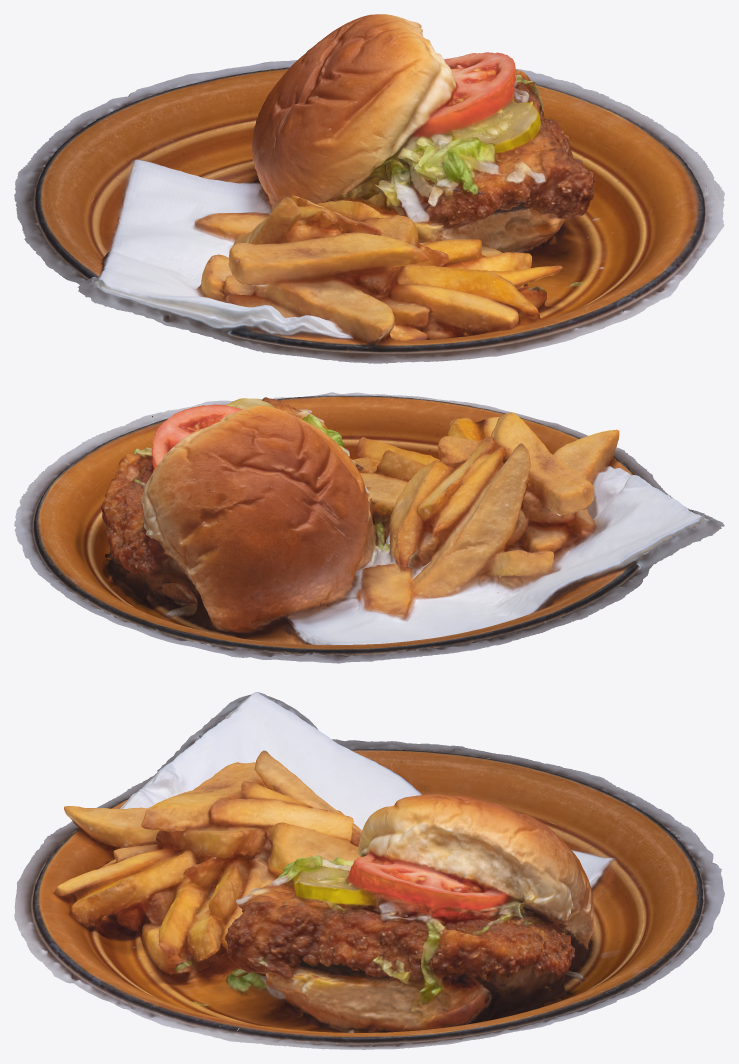
Rendered from chicken_sandwich.glb.
3 views of the same model, one above another, from view 1: azimuth 30°, elevation 25°; view 2: azimuth 150°, elevation 25°; view 3: azimuth 270°, elevation 25° (orthographic). The views are drawn at different scales.
Visible parts, largest first — view 1: Object_2, Object_3, Object_4; view 2: Object_2, Object_3, Object_4; view 3: Object_2, Object_3, Object_4.
Part boxes in pixels (x1,y1,x2,y2): Object_2: (14,104,724,363); Object_3: (16,14,718,311); Object_4: (45,18,724,274); Object_2: (93,392,724,656); Object_3: (14,395,463,663); Object_4: (14,398,385,663); Object_2: (14,692,682,1042); Object_3: (77,779,724,1049); Object_4: (124,795,722,1049).
Bounding box in the file's own units: 3.66 × 0.9656 × 3.48.
1 material, 1 textured.
